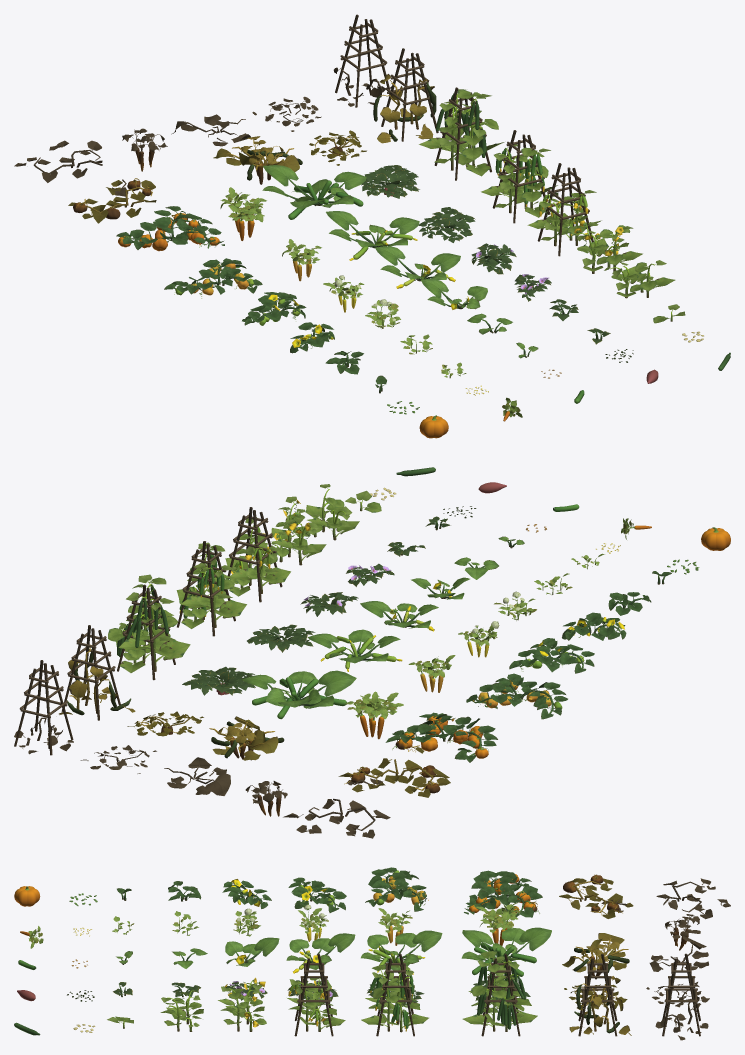
File: crop cycle 2.fbx
3 views of the same model, one above another, from view 1: azimuth 30°, elevation 25°; view 2: azimuth 150°, elevation 25°; view 3: azimuth 270°, elevation 25° (orthographic). The views are drawn at different scales.
Visible parts, largest first — view 1: model_0.042, model_0.041, model_0.026, model_0.040, model_0.033, model_0.036, model_0.025, model_0.030, model_0.037, model_0.017, model_0.031, model_2.001 (+13 smaller); view 2: model_0.042, model_0.041, model_0.040, model_0.033, model_0.036, model_0.026, model_0.030, model_0.025, model_0.031, model_2.001, model_0.017, model_0.037 (+16 smaller); view 3: model_0.042, model_0.041, model_0.033, model_0.040, model_0.026, model_0.036, model_0.037, model_0.030, model_0.025, model_2.001, model_0.031, model_0.017 (+16 smaller).
Part boxes in pixels (bbox=[...]): model_0.042: bbox=[419, 87, 504, 180]; model_0.041: bbox=[481, 130, 557, 223]; model_0.026: bbox=[373, 48, 438, 143]; model_0.040: bbox=[527, 163, 601, 256]; model_0.033: bbox=[116, 206, 224, 251]; model_0.036: bbox=[262, 165, 366, 219]; model_0.025: bbox=[333, 14, 391, 107]; model_0.030: bbox=[164, 258, 262, 298]; model_0.037: bbox=[326, 211, 419, 260]; model_0.017: bbox=[571, 220, 642, 273]; model_0.031: bbox=[68, 178, 156, 223]; model_2.001: bbox=[213, 136, 302, 184]; model_0.042: bbox=[108, 574, 190, 680]; model_0.041: bbox=[176, 541, 246, 636]; model_0.040: bbox=[224, 507, 290, 602]; model_0.033: bbox=[385, 712, 497, 762]; model_0.036: bbox=[242, 670, 356, 719]; model_0.026: bbox=[59, 625, 135, 720]; model_0.030: bbox=[466, 673, 567, 719]; model_0.025: bbox=[14, 660, 73, 755]; model_0.031: bbox=[338, 758, 450, 797]; model_2.001: bbox=[209, 716, 284, 760]; model_0.017: bbox=[266, 496, 326, 565]; model_0.037: bbox=[307, 629, 402, 671]; model_0.042: bbox=[462, 951, 537, 1036]; model_0.041: bbox=[361, 953, 428, 1036]; model_0.033: bbox=[464, 870, 542, 920]; model_0.040: bbox=[287, 953, 345, 1036]; model_0.026: bbox=[569, 953, 631, 1036]; model_0.036: bbox=[461, 927, 551, 976]; model_0.037: bbox=[361, 930, 442, 974]; model_0.030: bbox=[365, 867, 428, 911]; model_0.025: bbox=[655, 953, 708, 1040]; model_2.001: bbox=[562, 933, 629, 979]; model_0.031: bbox=[559, 874, 633, 918]; model_0.017: bbox=[218, 977, 266, 1031].
Bounding box in the file's own units: 66614 × 16465 × 117874.
